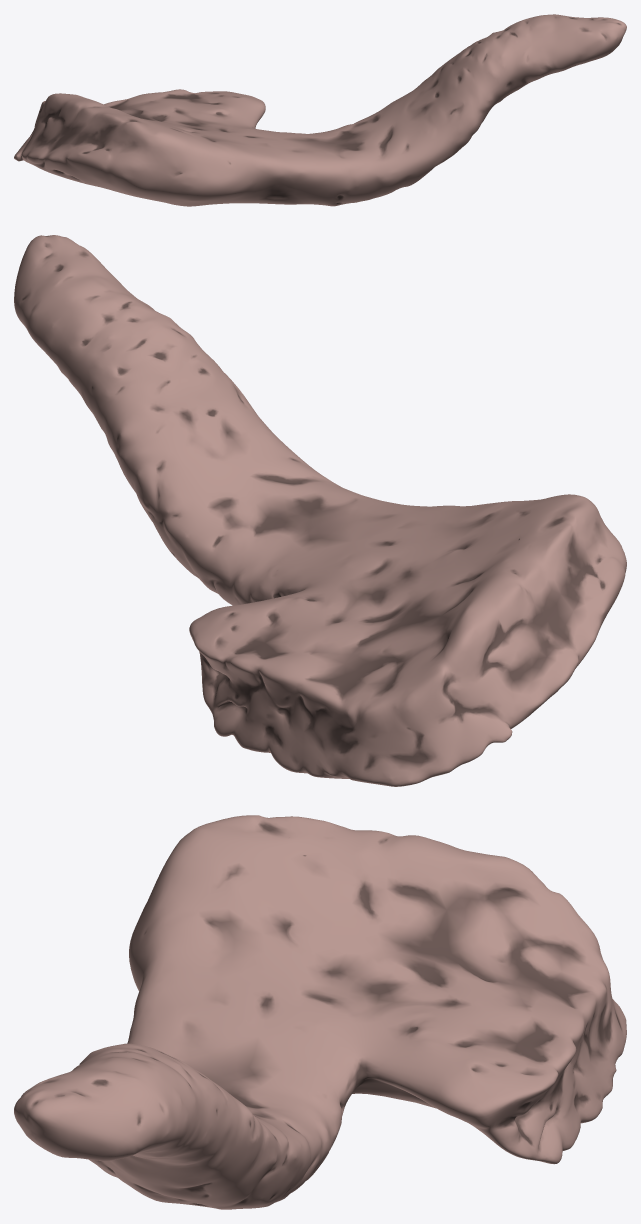
The model's file is pancreas.817b5652ca.glb.
3 renders of one model, top to bottom at view 1: azimuth 30°, elevation 25°; view 2: azimuth 150°, elevation 25°; view 3: azimuth 270°, elevation 25°, orthographic. The views are drawn at different scales.
Visible parts, largest first — view 1: FMA7198nsn; view 2: FMA7198nsn; view 3: FMA7198nsn.
Part boxes in pixels (x1,y1,x2,y2): FMA7198nsn: (14,14,626,206); FMA7198nsn: (14,235,626,786); FMA7198nsn: (14,815,626,1209).
Size of the model in its own units: 112 by 38.58 by 71.5.
